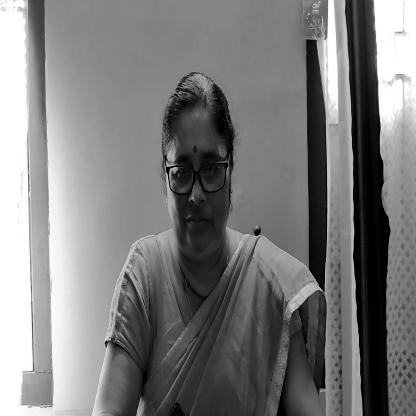Normal: (159, 70, 239, 265)
